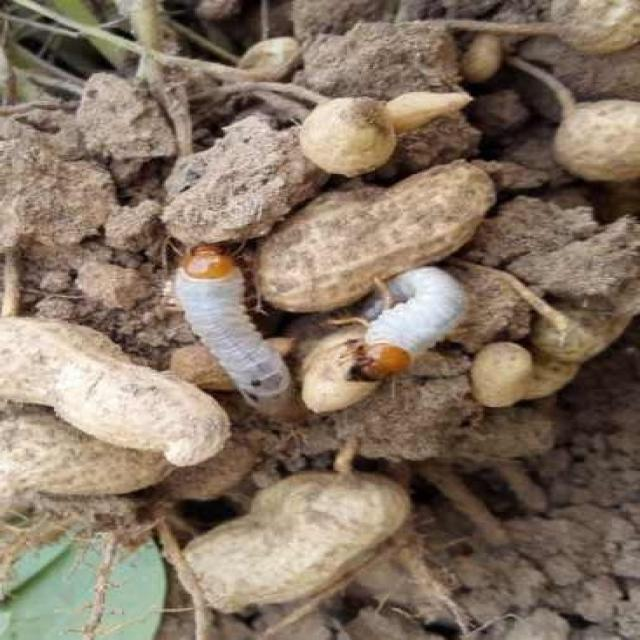grub: (182, 242, 299, 410), (341, 260, 474, 395)
